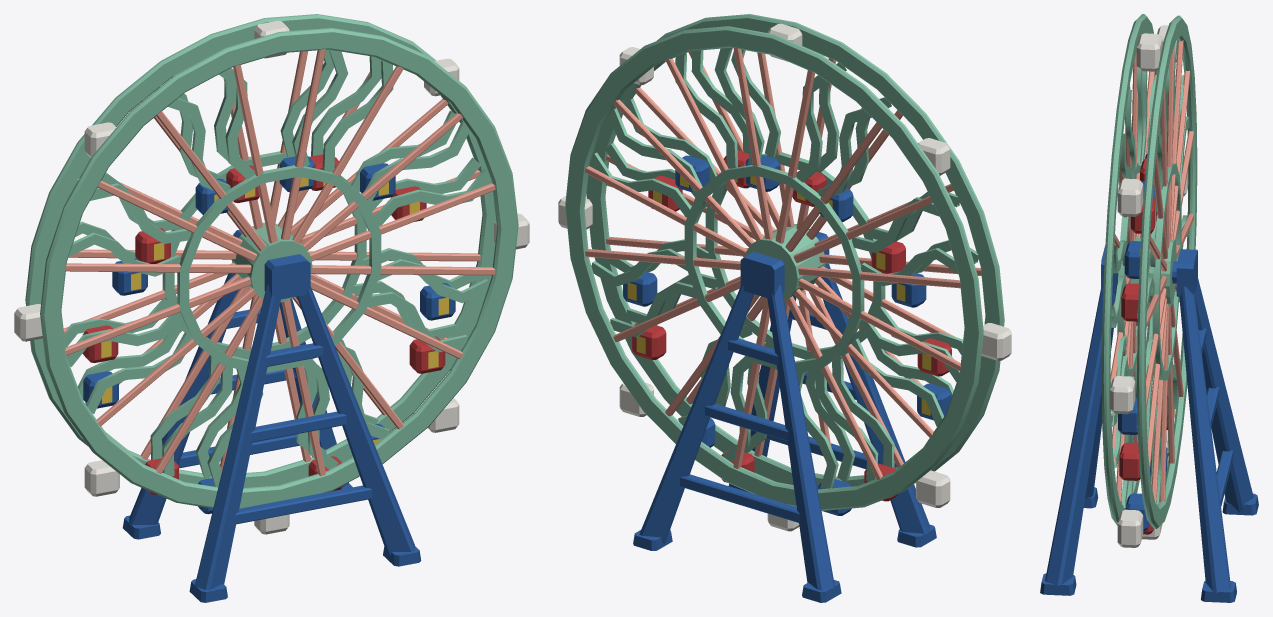
The picture shows the model from 3 angles, left to right: view 1: azimuth 30°, elevation 25°; view 2: azimuth 150°, elevation 25°; view 3: azimuth 270°, elevation 25°; orthographic projection.
Parts seen in each view (by area): view 1: wonder-wheel; view 2: wonder-wheel; view 3: wonder-wheel.
Part boxes in pixels (x1,y1,x2,y2): wonder-wheel: [14, 14, 529, 602]; wonder-wheel: [558, 14, 1011, 602]; wonder-wheel: [1040, 14, 1258, 602].
Bounding box in the file's own units: 44.68 × 46 × 17.88.
